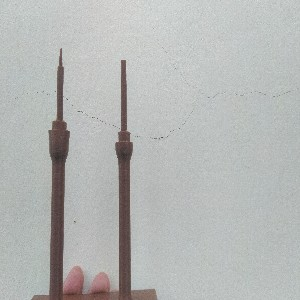obeng: (114, 58, 135, 300)
solder: (47, 47, 71, 300)
